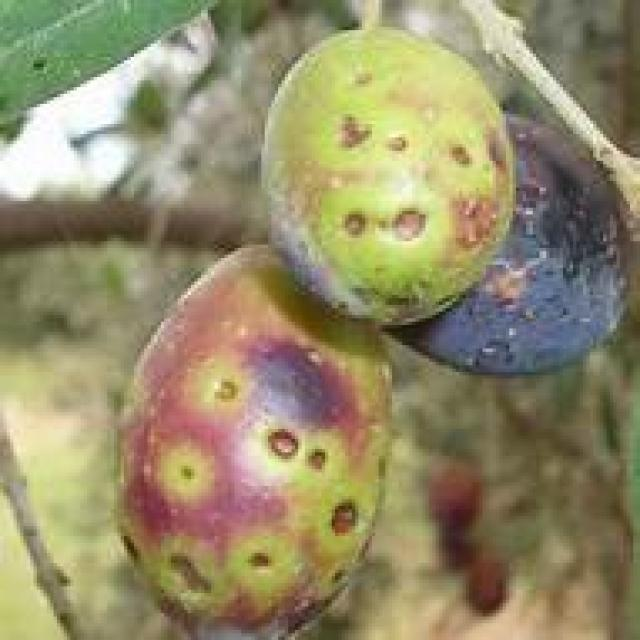Anthracnose: (118, 244, 388, 636), (264, 26, 512, 322), (416, 117, 624, 372)
